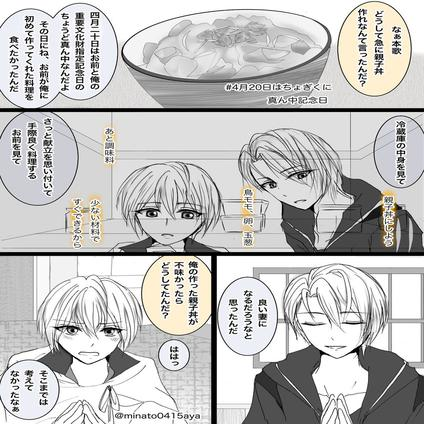bubble: (1, 4, 116, 107), (0, 112, 78, 204), (338, 2, 413, 97), (141, 256, 209, 334), (218, 278, 277, 354), (0, 361, 59, 421), (374, 119, 422, 187)
